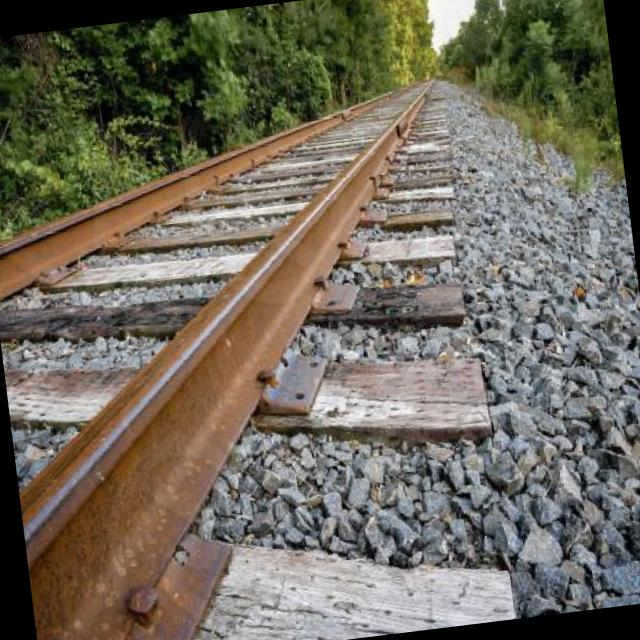non-defective: (0, 72, 514, 640)
